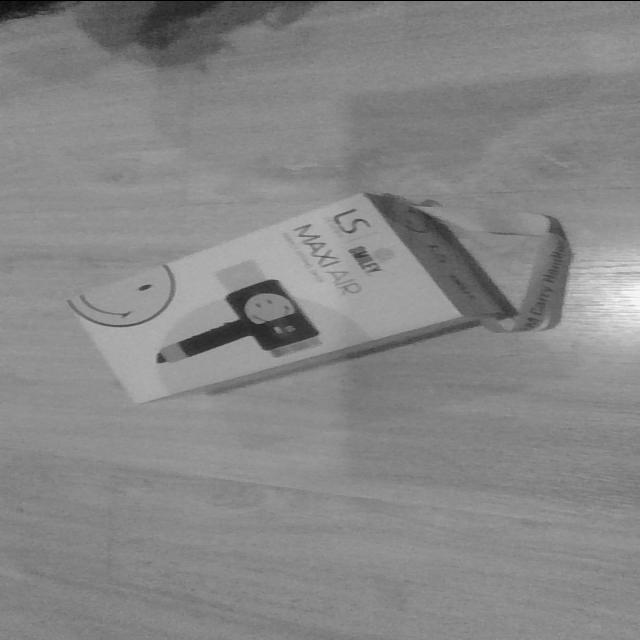Dryer: (70, 149, 607, 437)
